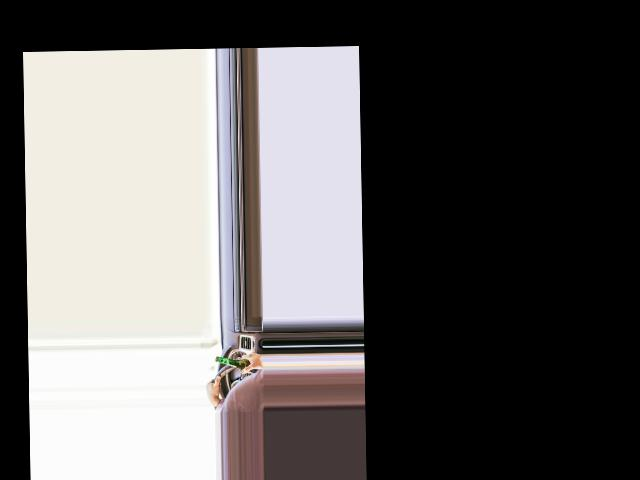beer: (215, 354, 259, 374)
